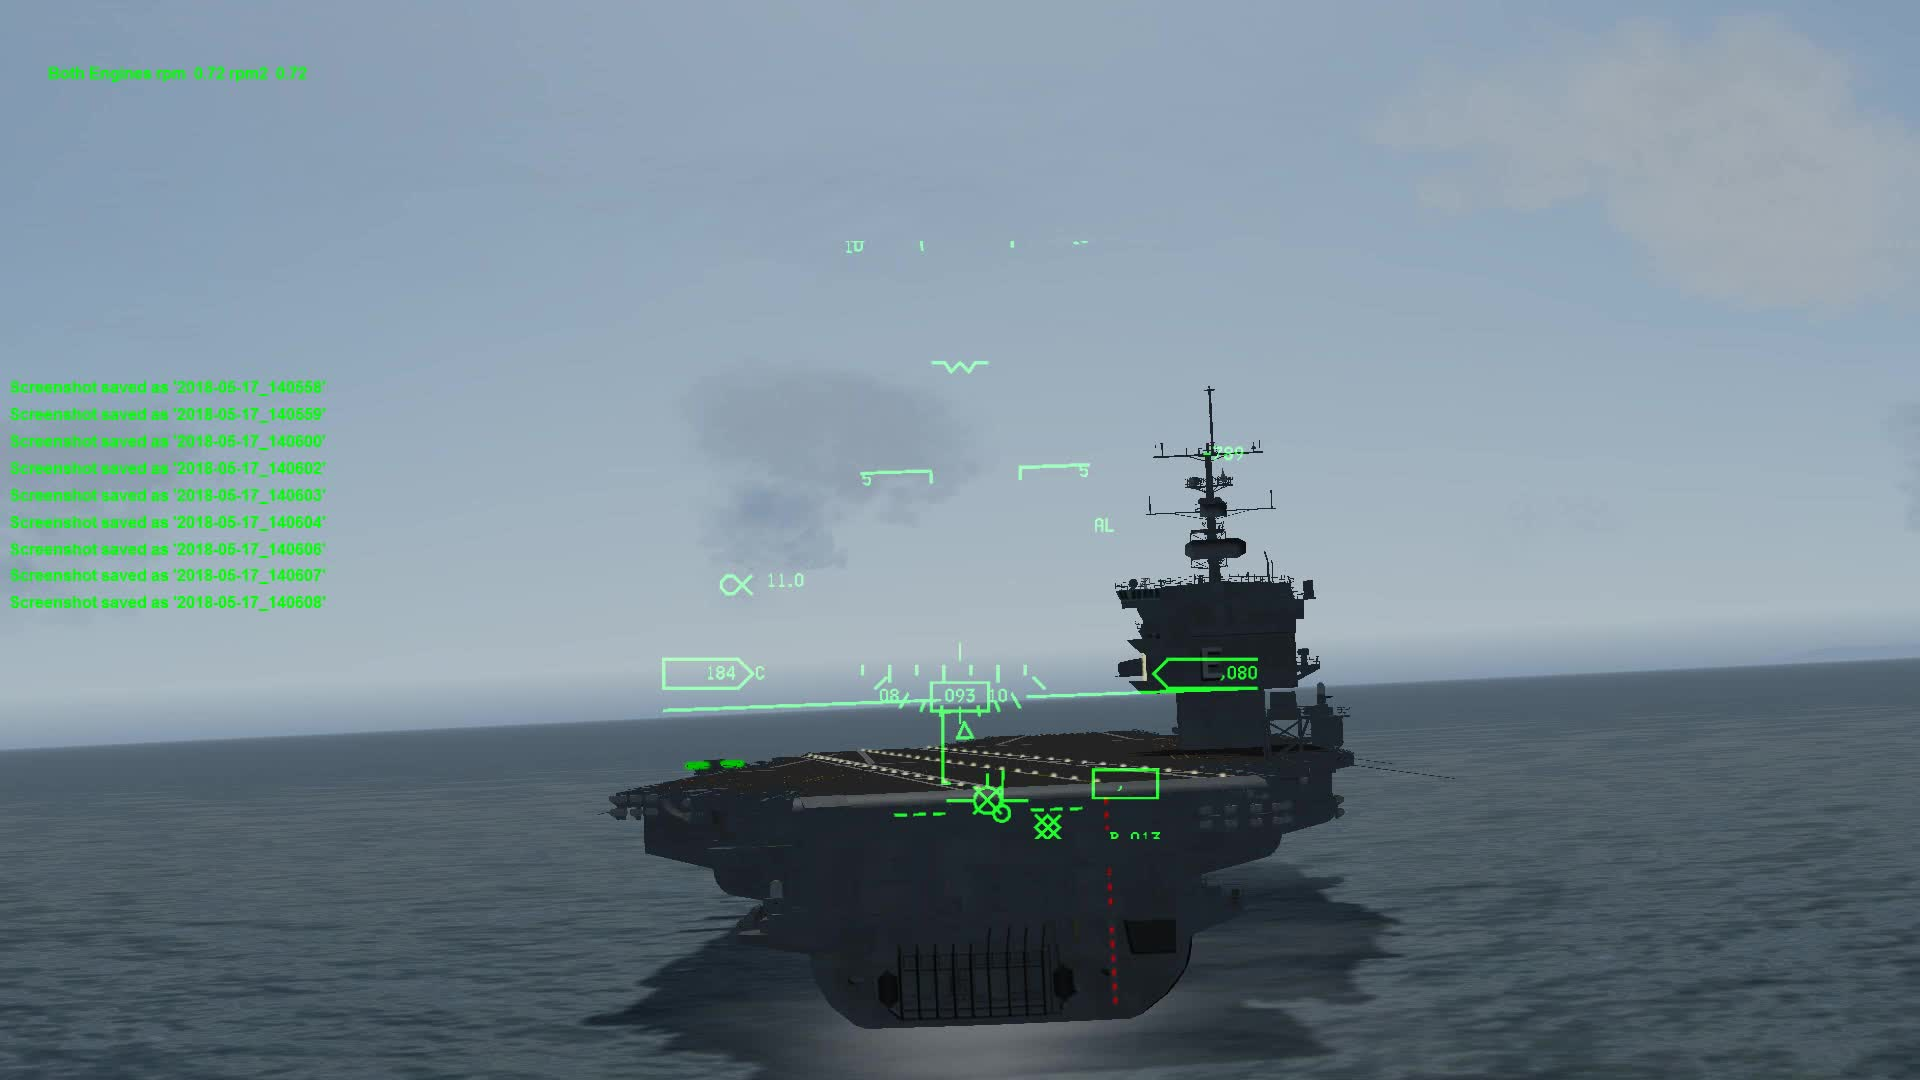speed vector: (942, 764, 1026, 822)
